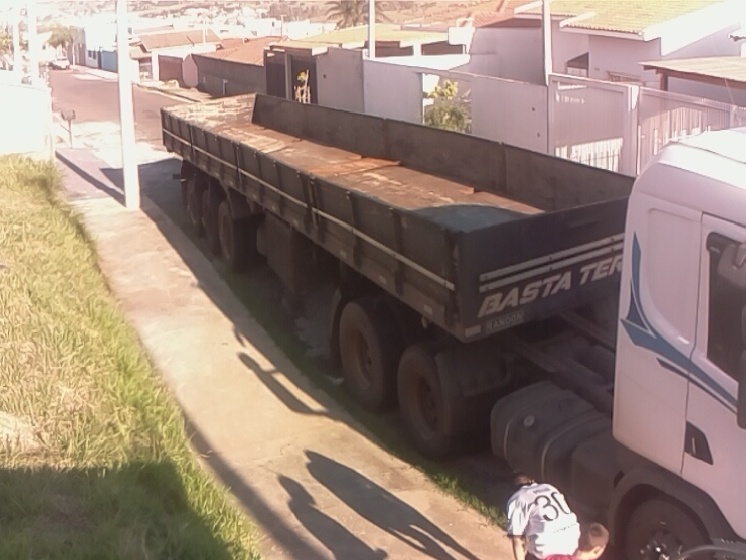person: (501, 467, 583, 560), (520, 518, 624, 560)
